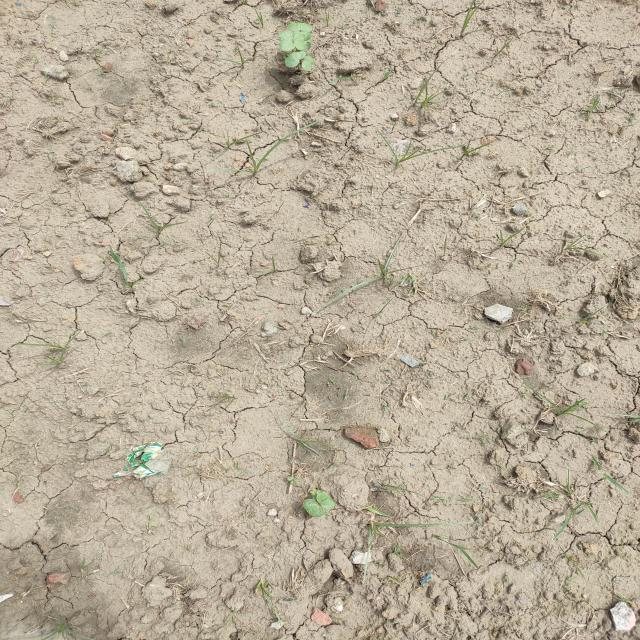seedling: (303, 499, 325, 517), (285, 50, 306, 68), (278, 32, 295, 52), (316, 492, 335, 509), (293, 33, 305, 51), (301, 55, 314, 71), (287, 23, 312, 31), (292, 31, 311, 41)
